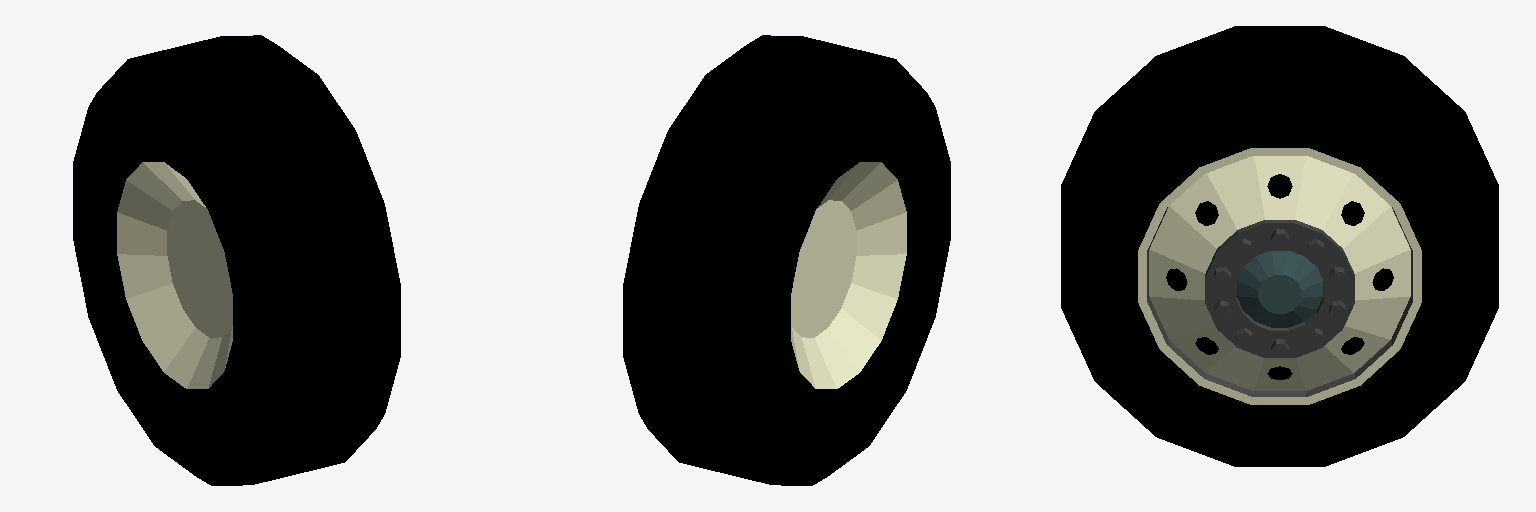
File: wheel02.obj
The picture shows the model from 3 angles: view 1: azimuth 30°, elevation 25°; view 2: azimuth 150°, elevation 25°; view 3: azimuth 270°, elevation 25°; orthographic projection.
Visible parts, largest first — view 1: Wheel02; view 2: Wheel02; view 3: Wheel02.
Boxes of the visible parts, box(x1,y1,x2,y2) form: Wheel02: box(73, 35, 400, 485); Wheel02: box(623, 35, 950, 485); Wheel02: box(1061, 26, 1498, 466).
Size of the model in its own units: 14.37 by 33.69 by 33.69.